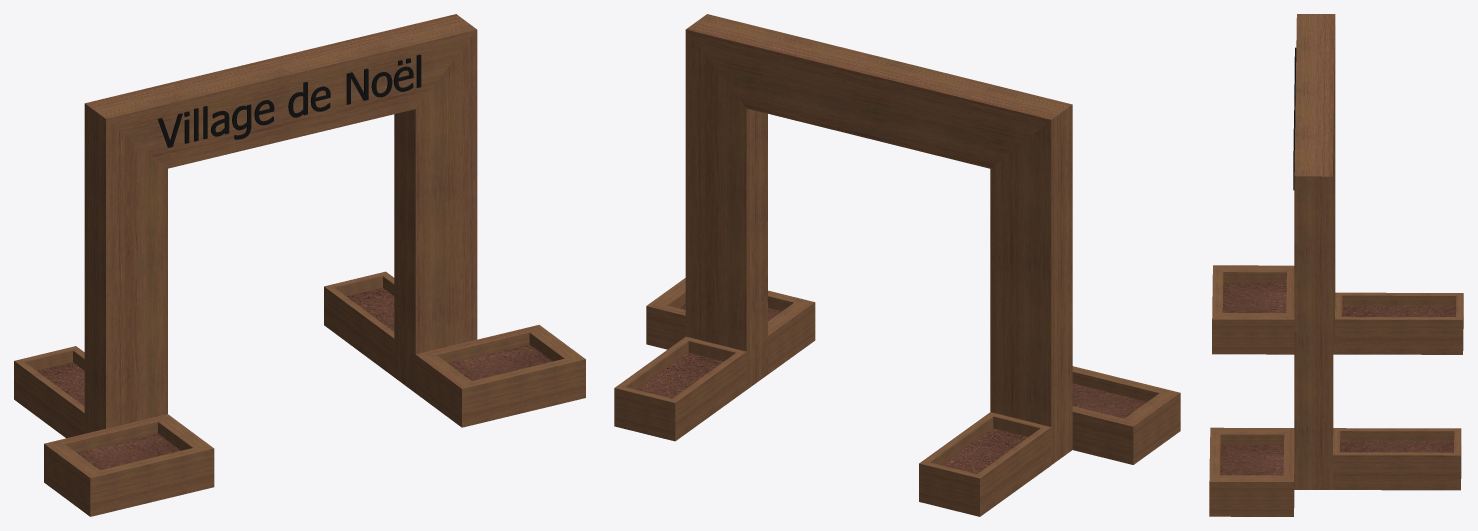
File: EntreeVillageNoel.fbx
The picture shows the model from 3 angles, left to right: view 1: azimuth 30°, elevation 25°; view 2: azimuth 150°, elevation 25°; view 3: azimuth 270°, elevation 25°; orthographic projection. The views are drawn at different scales.
Parts seen in each view (by area): view 1: EntreeVillage; view 2: EntreeVillage; view 3: EntreeVillage.
Part boxes in pixels (x1=…): EntreeVillage: x1=14, y1=14, x2=585, y2=516; EntreeVillage: x1=614, y1=14, x2=1180, y2=516; EntreeVillage: x1=1209, y1=14, x2=1463, y2=516.
Size of the model in its own units: 400 by 270 by 198.
